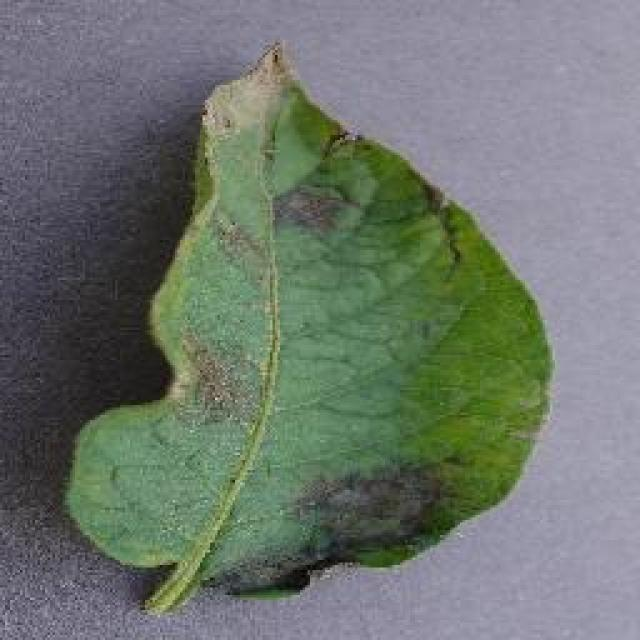late_blight: (60, 37, 558, 615)
